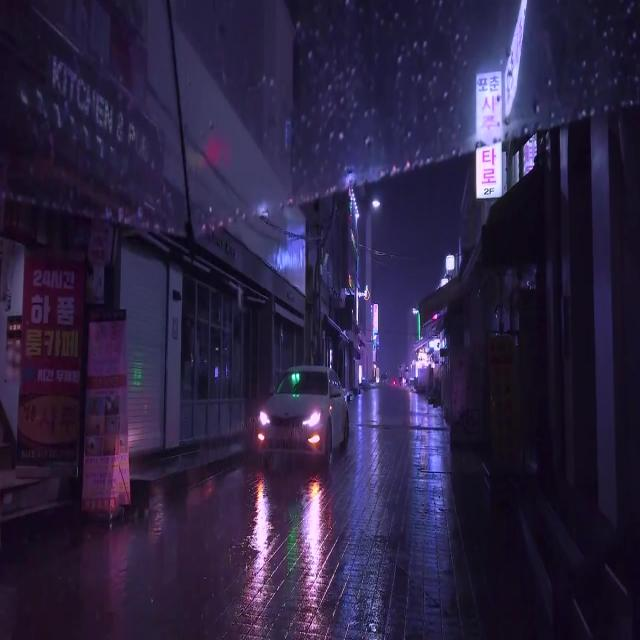Car: (251, 361, 348, 464)
